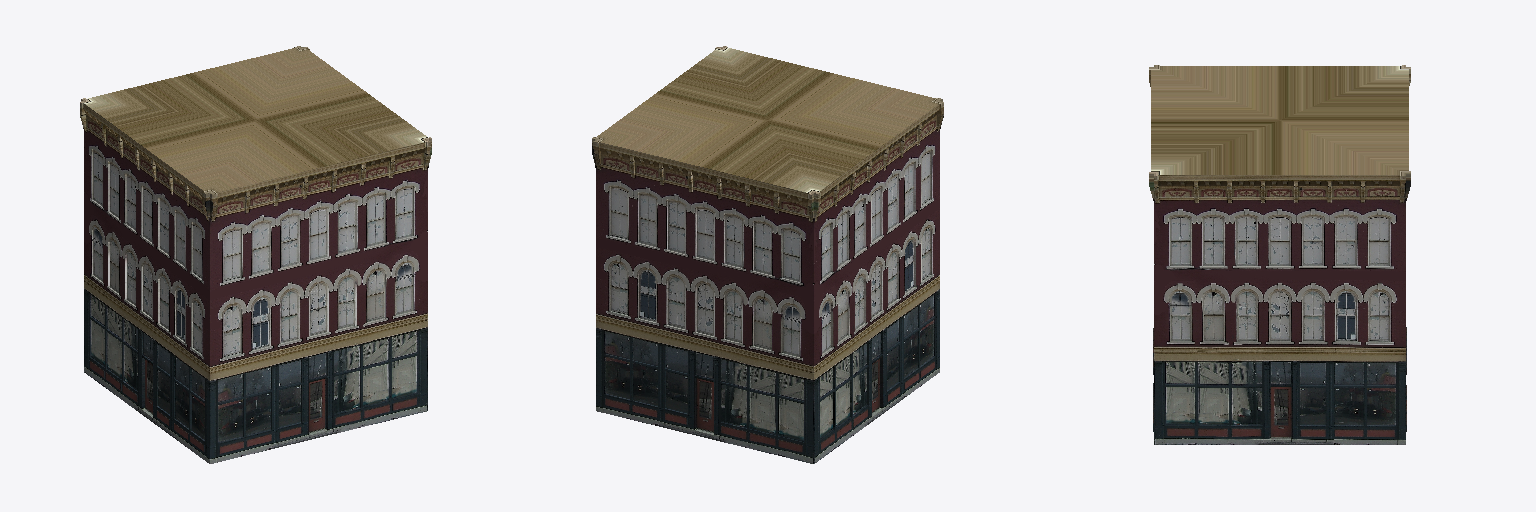
3 views of the same model, side by side, from view 1: azimuth 30°, elevation 25°; view 2: azimuth 150°, elevation 25°; view 3: azimuth 270°, elevation 25° (orthographic).
Parts seen in each view (by area): view 1: Plane01; view 2: Plane01; view 3: Plane01.
Boxes of the visible parts, <box> form: Plane01: <box>80,46,431,463</box>; Plane01: <box>592,46,943,463</box>; Plane01: <box>1149,65,1410,444</box>.
Bounding box in the file's own units: 1995 × 2280 × 1995.
Materials: 1 (1 with a texture image).